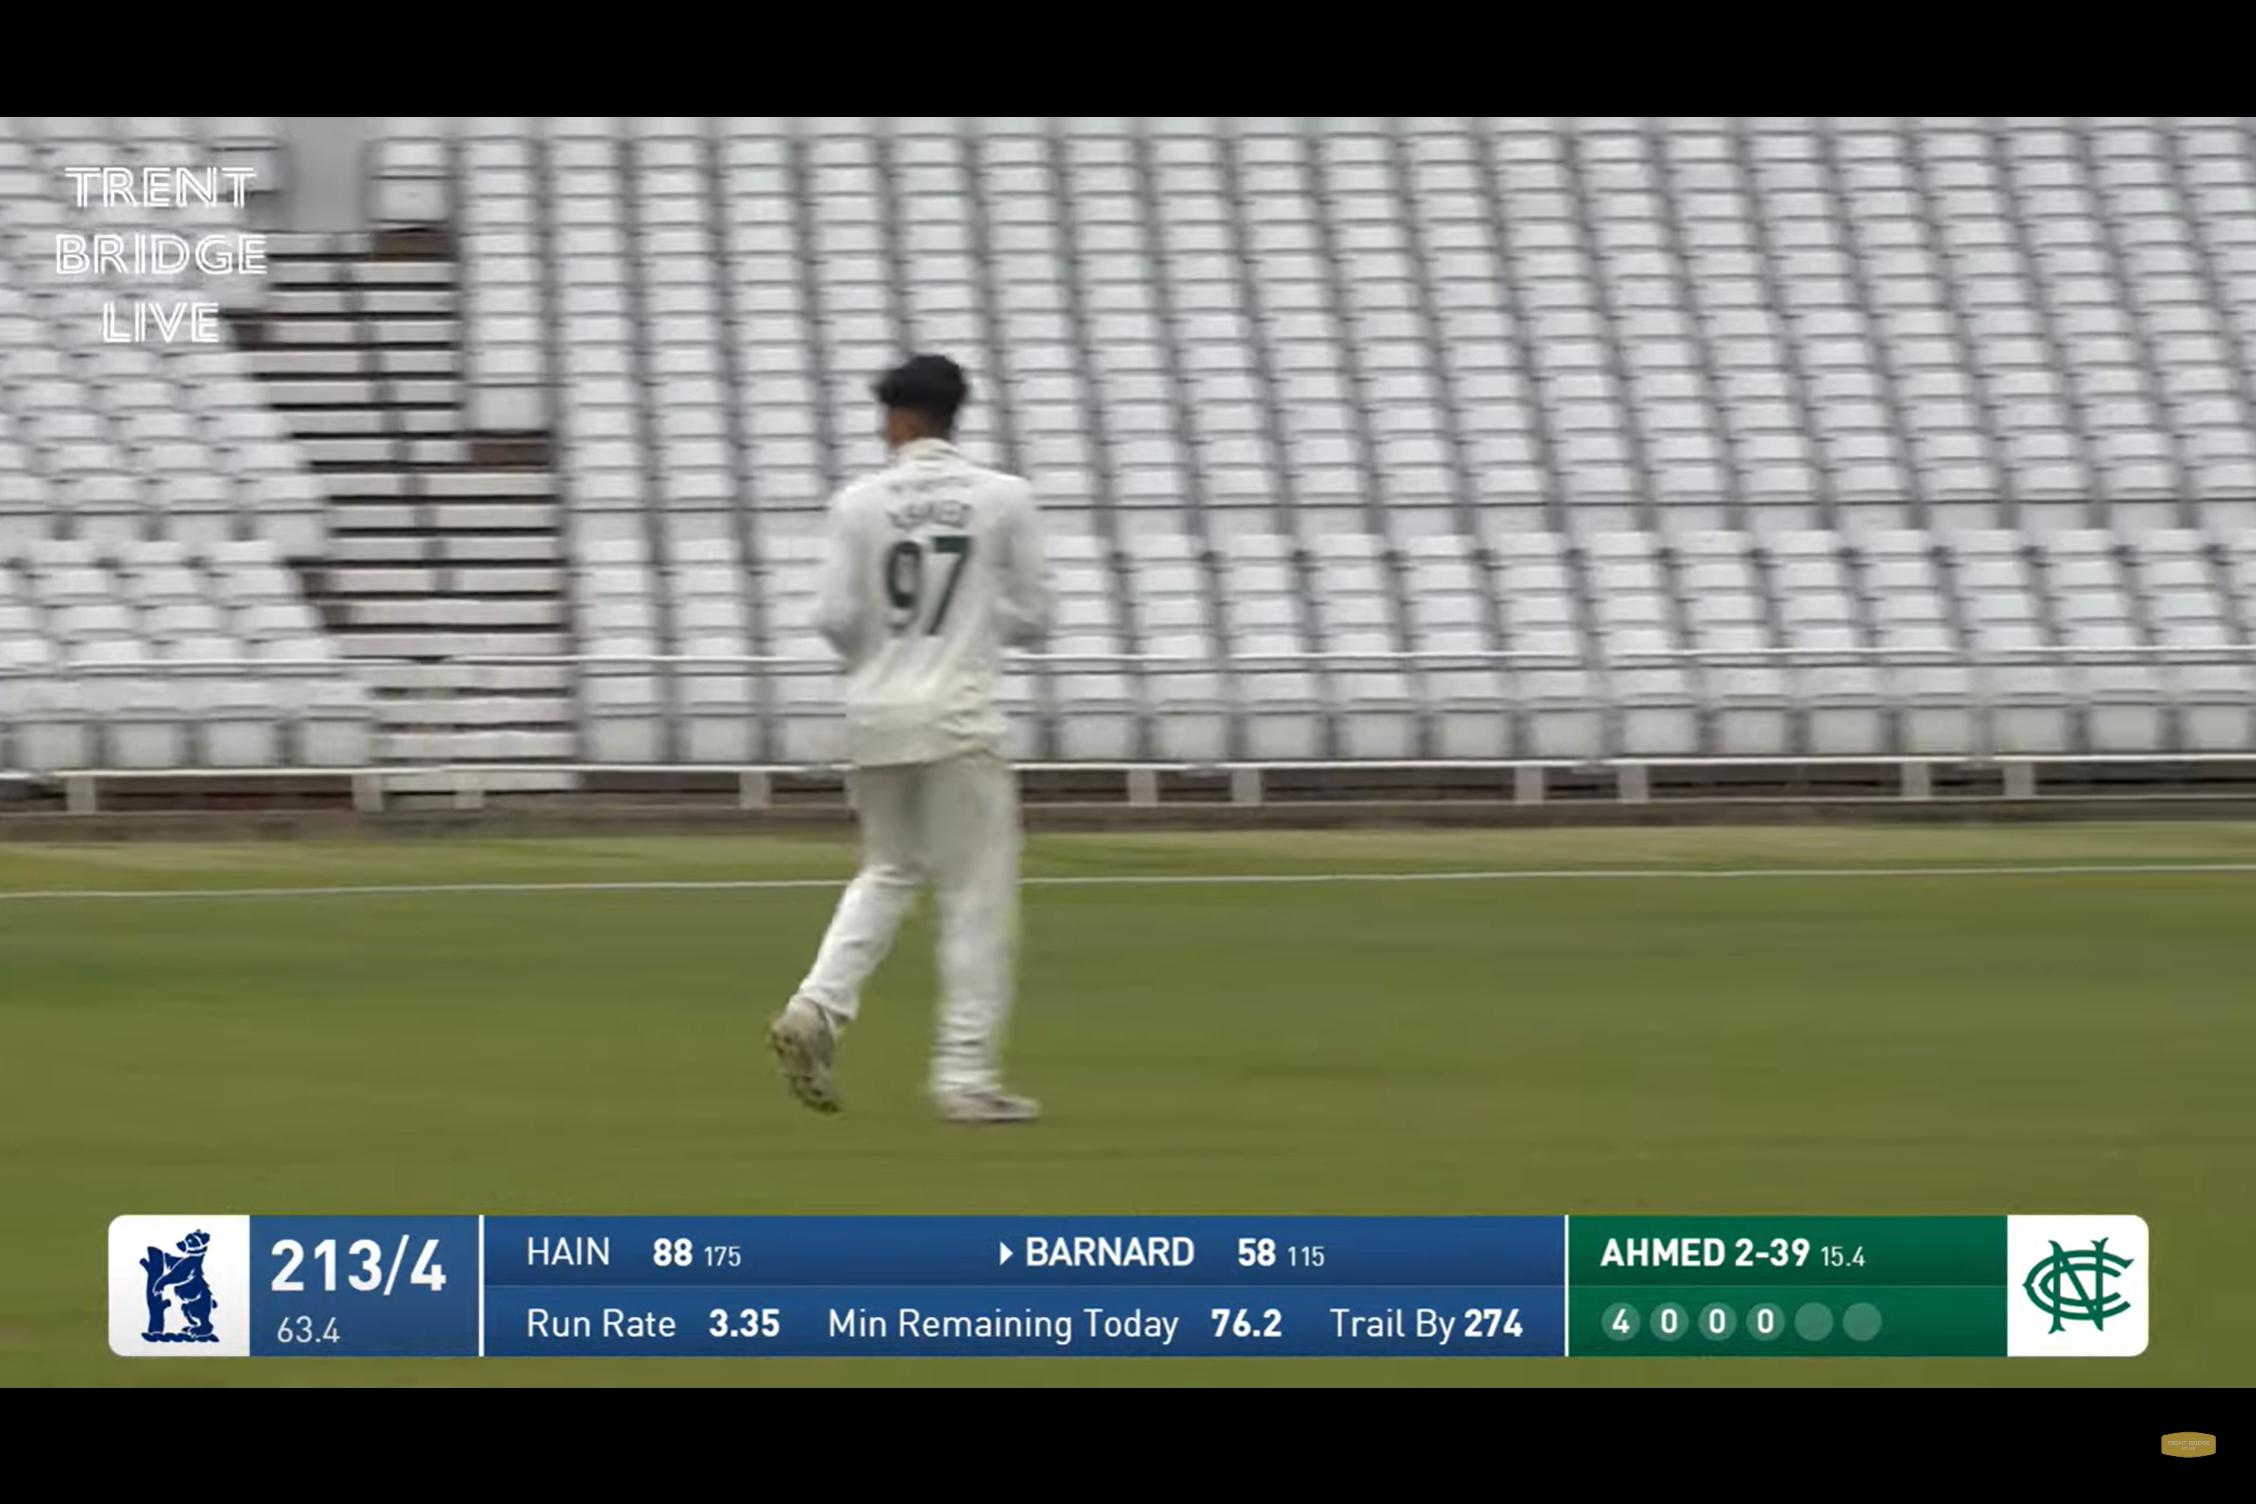bowler walking back: (765, 347, 1089, 1146)
